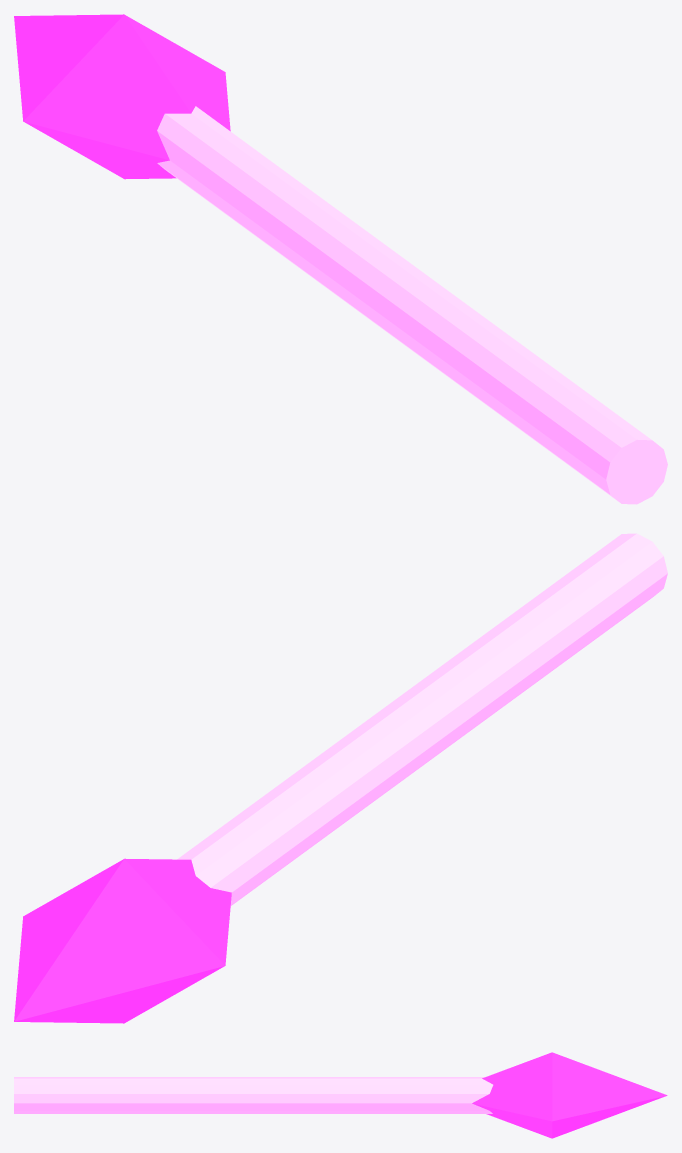
Rendered from prism_lance.glb.
3 views of the same model, one above another, from view 1: azimuth 30°, elevation 25°; view 2: azimuth 150°, elevation 25°; view 3: azimuth 270°, elevation 25° (orthographic). The views are drawn at different scales.
Parts seen in each view (by area): view 1: PrismLanceVioletRail, PrismLanceFacetedHead; view 2: PrismLanceVioletRail, PrismLanceFacetedHead; view 3: PrismLanceVioletRail, PrismLanceFacetedHead.
Boxes of the visible parts, x1,y1,x2,y2 form: PrismLanceVioletRail: (157, 106, 667, 504); PrismLanceFacetedHead: (14, 14, 230, 179); PrismLanceVioletRail: (177, 533, 667, 905); PrismLanceFacetedHead: (14, 858, 231, 1023); PrismLanceVioletRail: (14, 1077, 493, 1113); PrismLanceFacetedHead: (472, 1052, 667, 1138).
Bounding box in the file's own units: 0.3888 × 0.3024 × 2.07.
